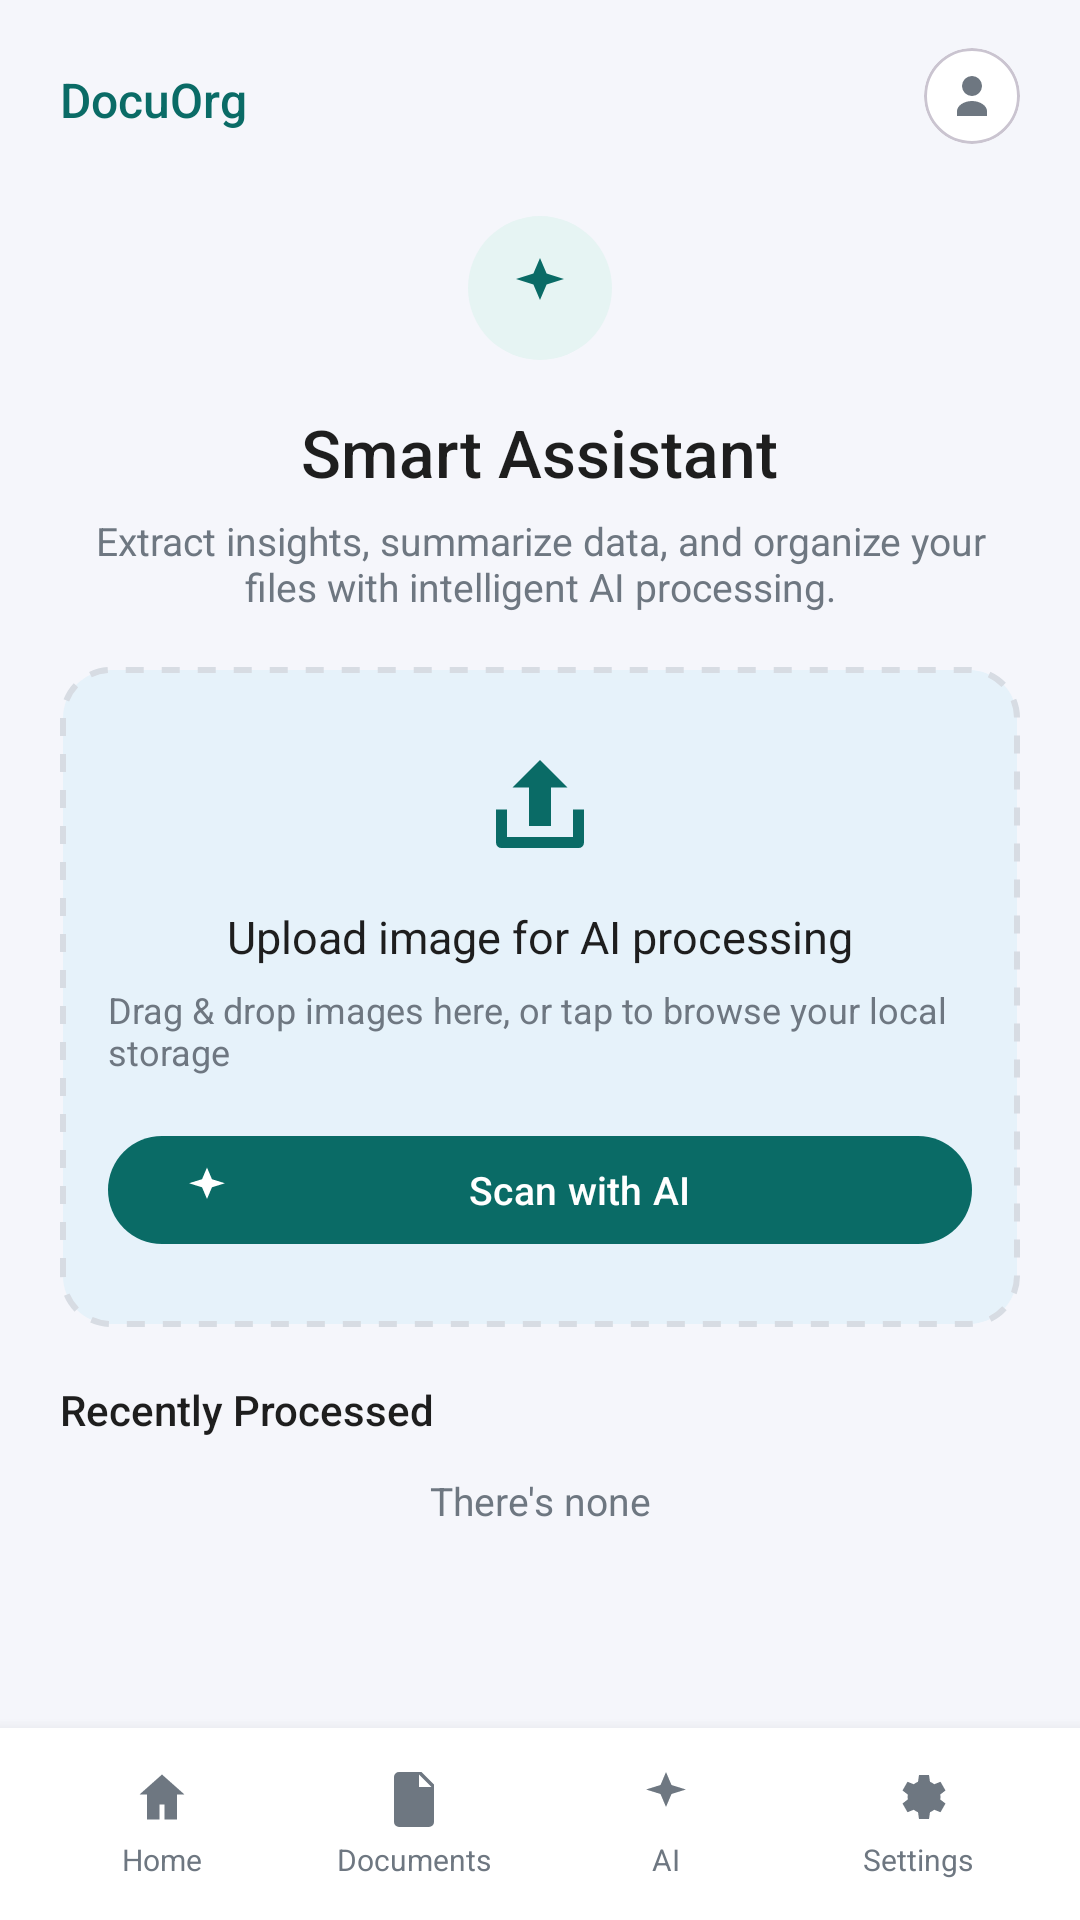

Where to tap for icons on this 1080×1920 app screen, as (x,y):
Profile: (972,96)
